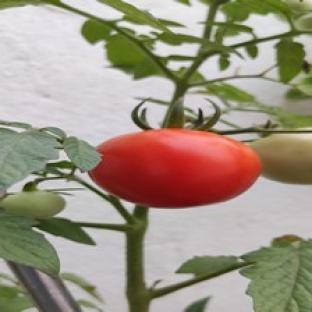Tomato: (90, 129, 260, 207), (250, 134, 311, 183), (0, 190, 65, 218), (294, 13, 311, 30)
